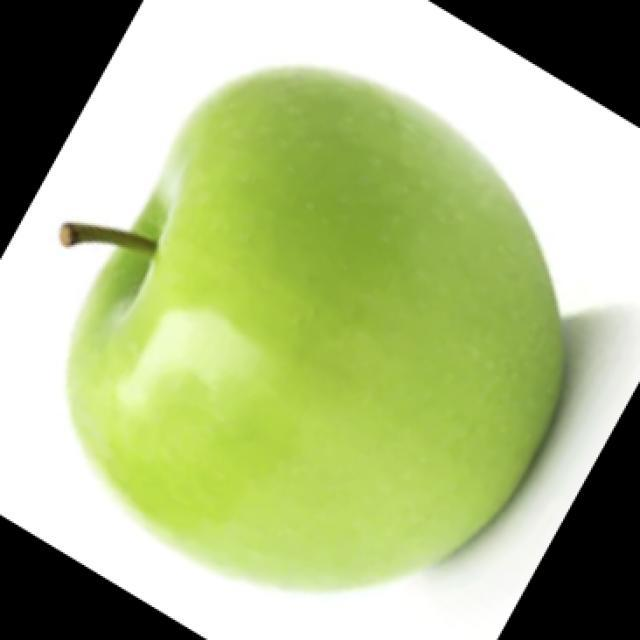Fresh Apple: (70, 77, 560, 563)
